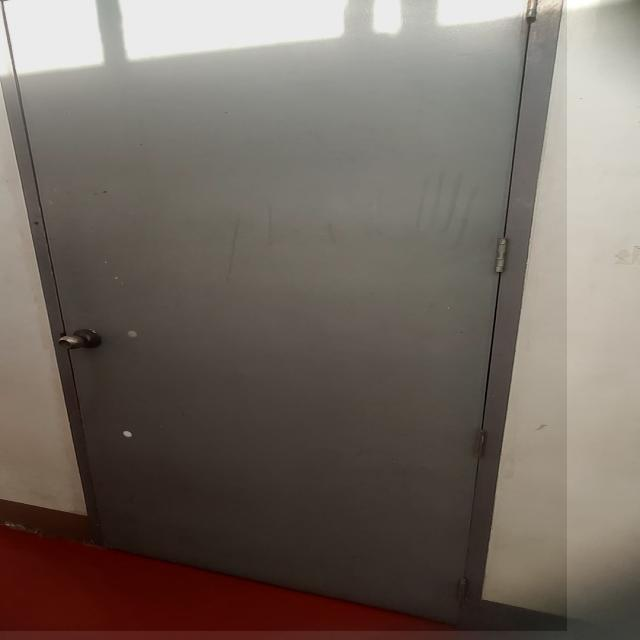door: (0, 0, 567, 631)
